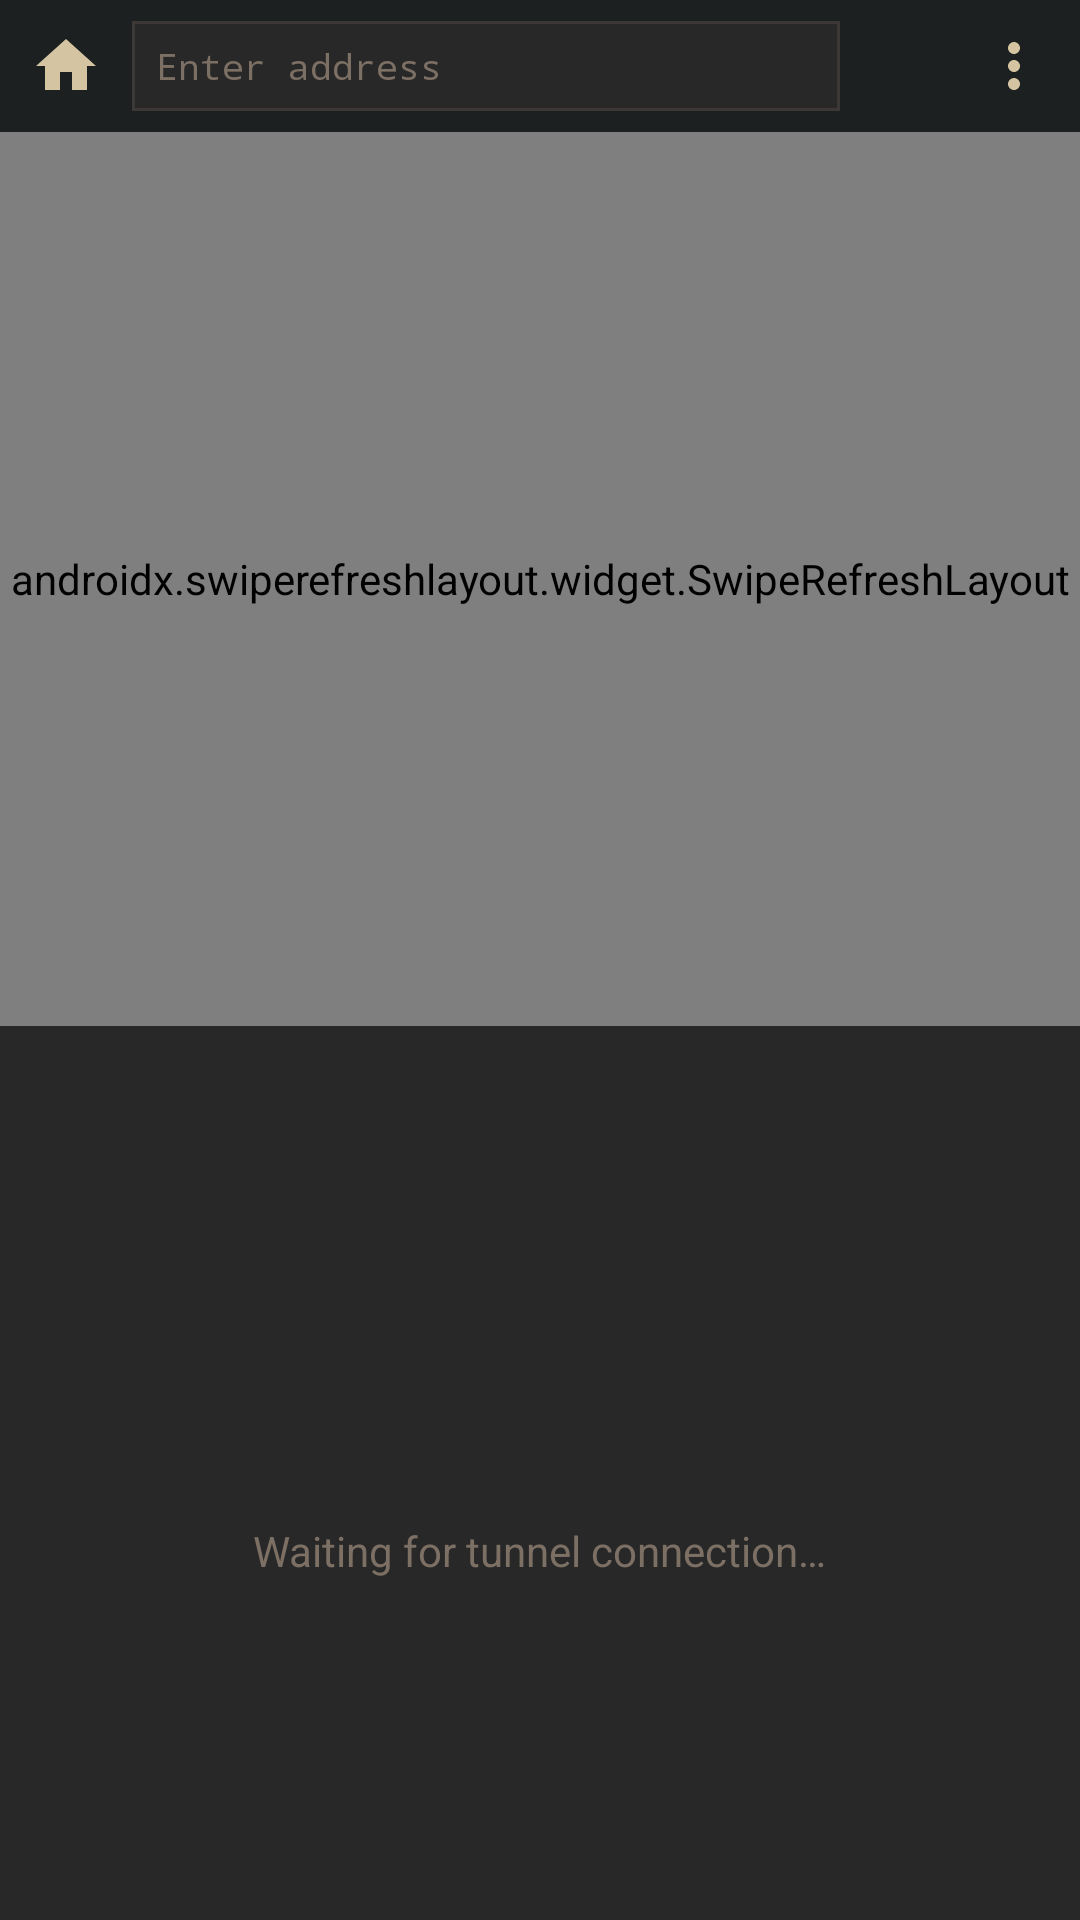

Icons on this 1080w x 1920h Android screen, each with its box as (x1, y1, x2, y2):
Back to main: (36, 39, 96, 90)
More: (1008, 42, 1020, 90)
